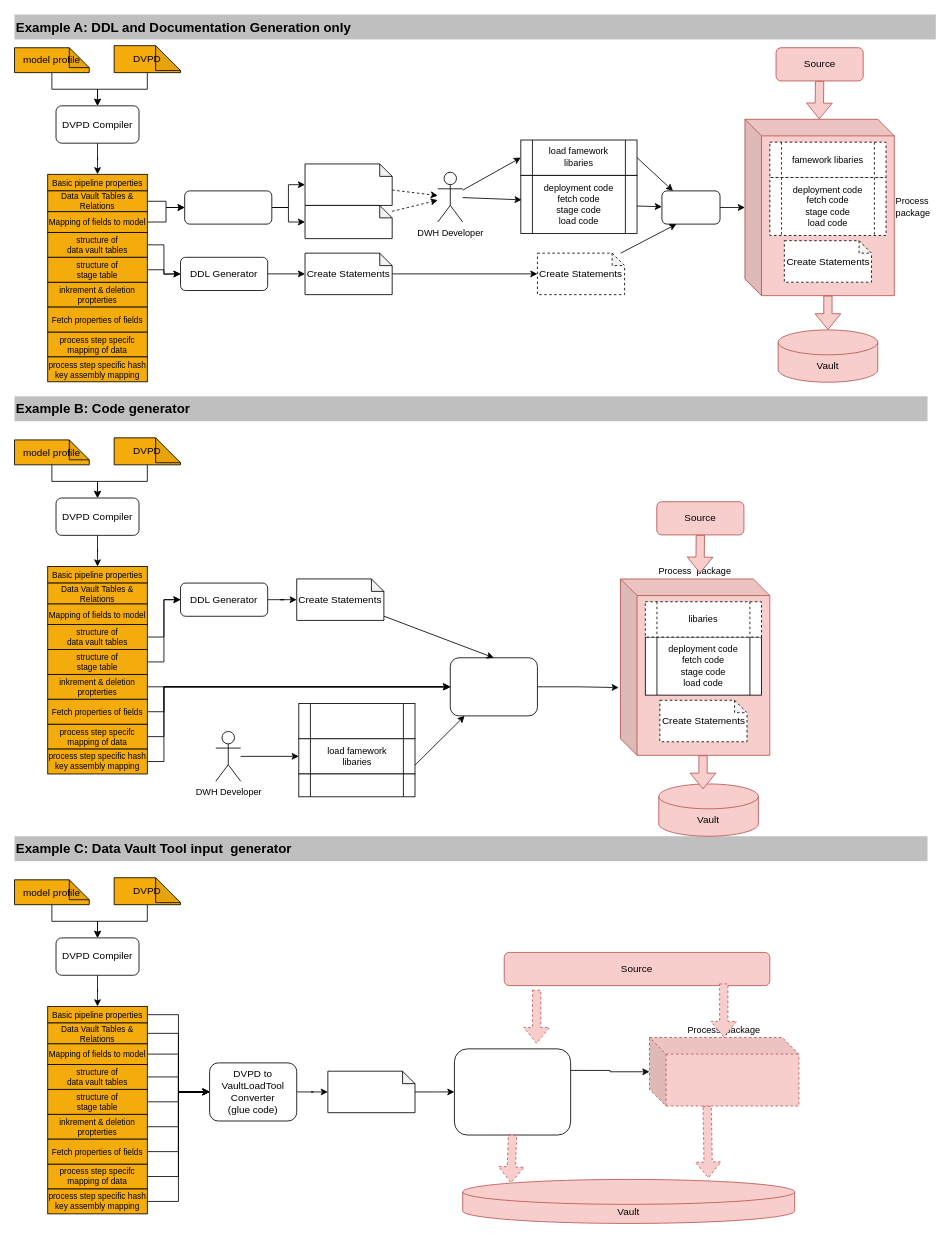
The diagram is 950 pixels wide and 1238 high, and some of its shapes have lost their labels. Here are the shapes that lost their labels. From the top down, the centre of each, then its label:
[348,184]: Model Documentation
[228,207]: Documentation Generator
[348,222]: Mapping Documentation
[690,207]: CI/CD
[493,686]: Code generator
[356,721]: increment pattern libararies
[356,785]: parsing libraries
[371,1091]: Importable description for VaultLoadTool
[512,1091]: VaultLoad Tool
